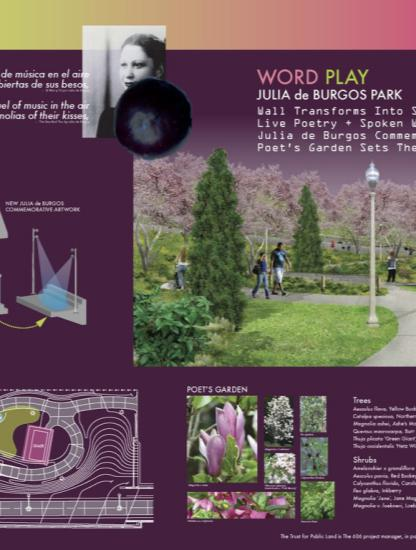Plum: (111, 77, 195, 161)
